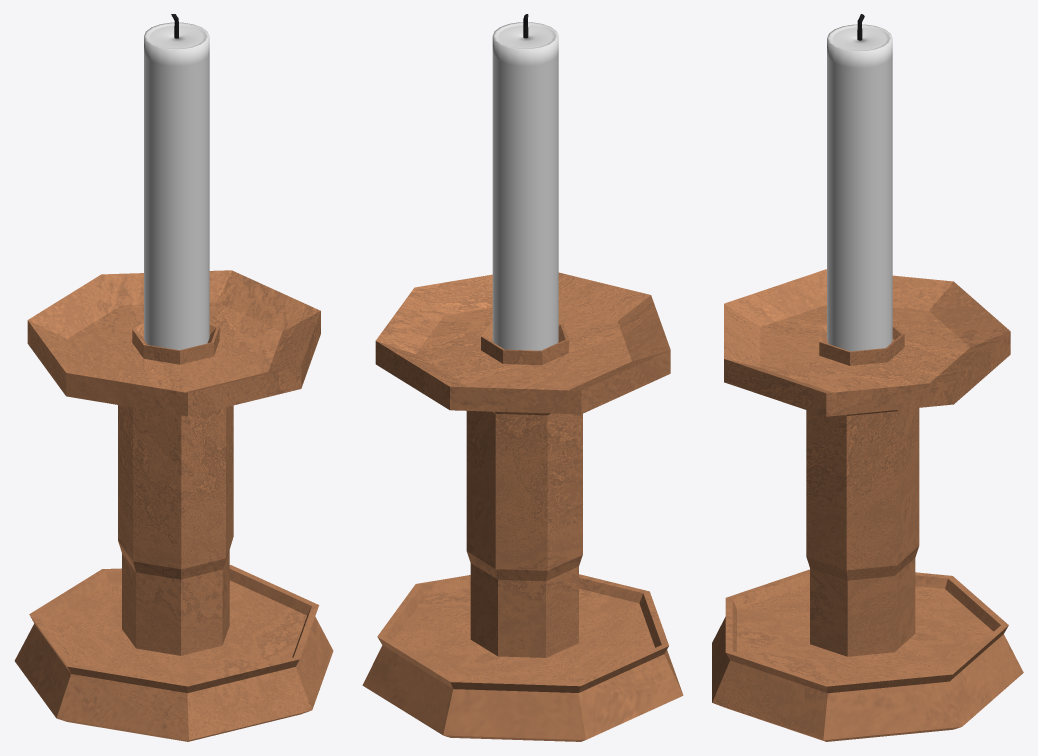
Rendered from candle new 2.fbx.
3 views of the same model, side by side, from view 1: azimuth 30°, elevation 25°; view 2: azimuth 150°, elevation 25°; view 3: azimuth 270°, elevation 25° (orthographic).
Visible parts, largest first — view 1: Cylinder, Cylinder.001; view 2: Cylinder, Cylinder.001; view 3: Cylinder, Cylinder.001.
Boxes of the visible parts, bbox=[...] form: Cylinder: bbox=[14, 270, 333, 741]; Cylinder.001: bbox=[144, 14, 209, 349]; Cylinder: bbox=[362, 272, 683, 741]; Cylinder.001: bbox=[492, 14, 558, 350]; Cylinder: bbox=[712, 269, 1023, 741]; Cylinder.001: bbox=[827, 14, 892, 351].
Size of the model in its own units: 975 by 2237 by 950.
Materials: 3 (1 with a texture image).
